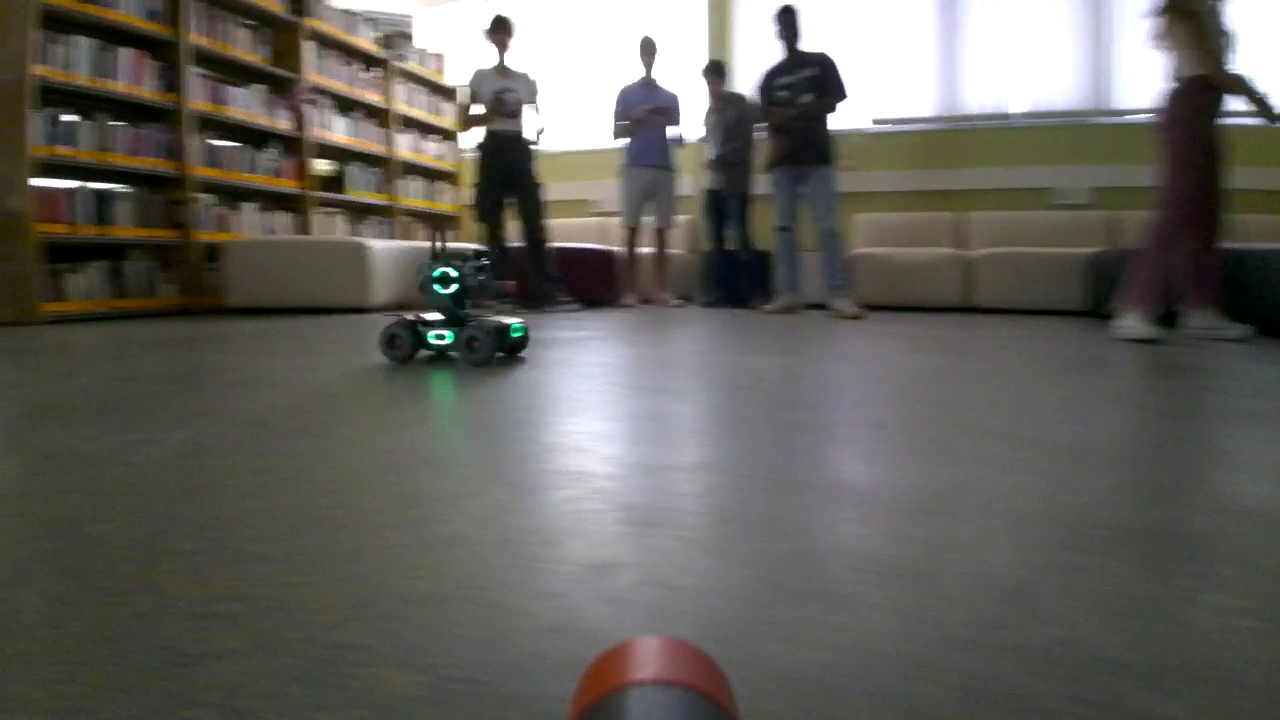robot: (378, 247, 532, 372)
